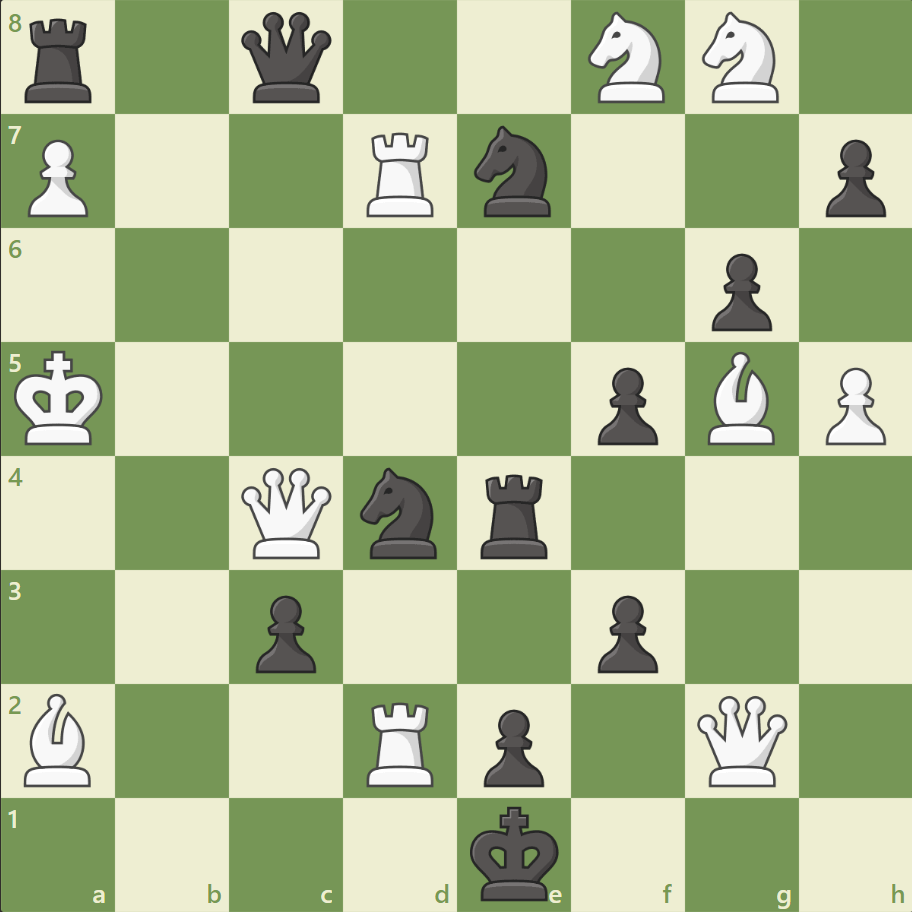B: (17, 687, 101, 790), (698, 347, 782, 449)
K: (11, 344, 111, 452)
N: (579, 7, 676, 110), (692, 7, 789, 110)
P: (20, 132, 95, 223), (815, 359, 889, 450)
Q: (237, 463, 336, 562), (691, 690, 790, 789)
R: (360, 125, 442, 222), (360, 693, 442, 790)
k: (465, 798, 565, 906)
n: (351, 461, 449, 564), (465, 121, 562, 223)
p: (701, 246, 776, 337), (247, 586, 322, 677), (474, 700, 549, 791), (815, 132, 889, 223), (588, 359, 662, 450), (588, 586, 662, 677)
q: (237, 9, 336, 108)
r: (19, 12, 102, 109), (473, 466, 556, 563)
